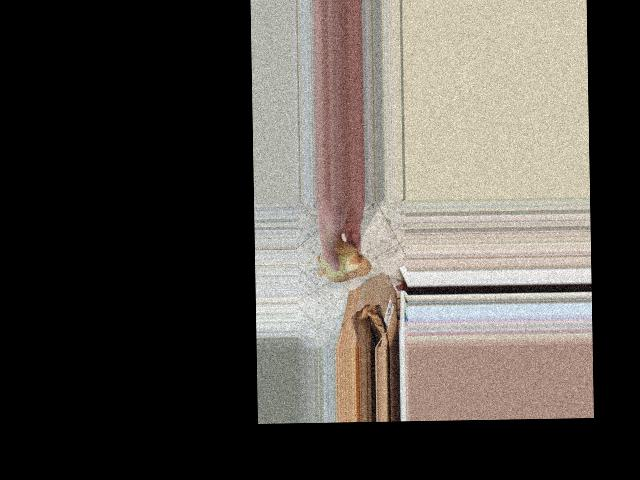onion: (315, 236, 369, 287)
